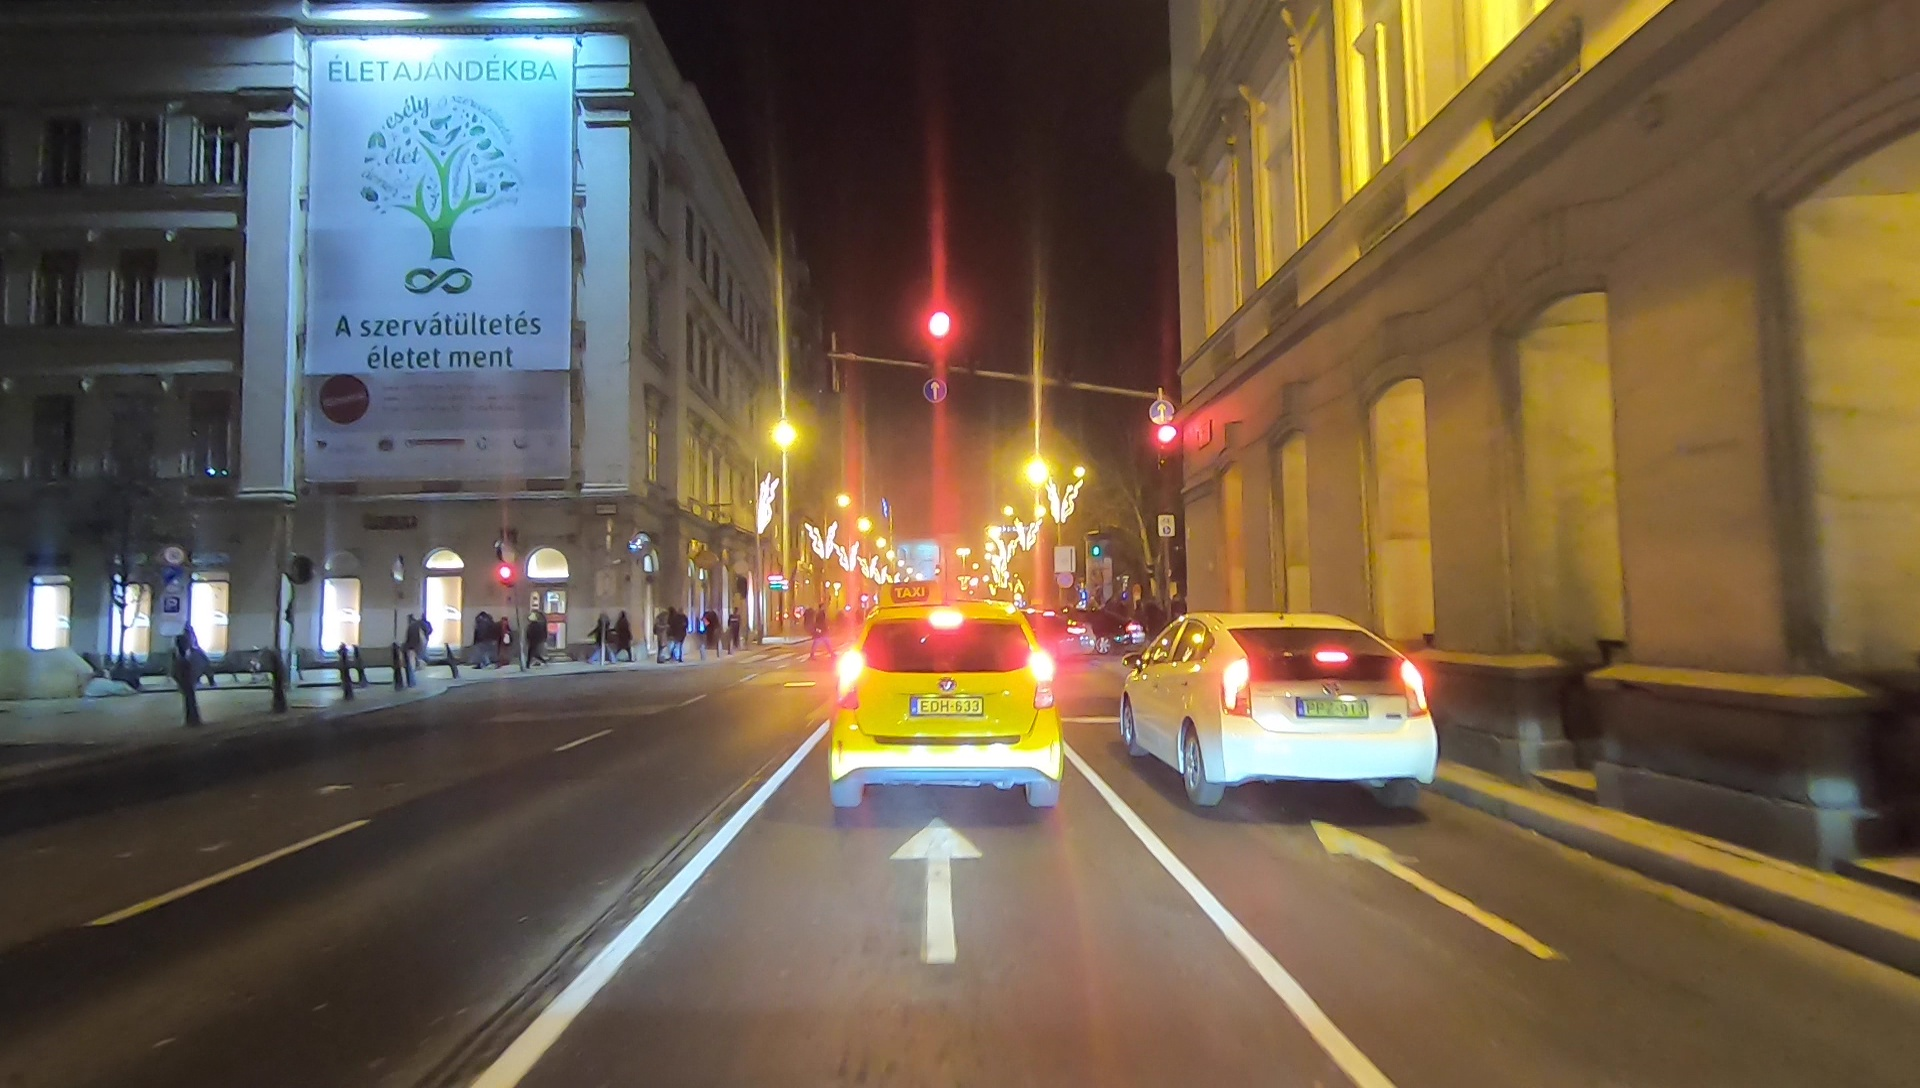person: (801, 602, 832, 669), (654, 604, 688, 665), (521, 608, 552, 671), (404, 617, 430, 678), (473, 610, 499, 673), (697, 604, 721, 654), (612, 610, 632, 663), (591, 613, 608, 669), (730, 604, 741, 650)
